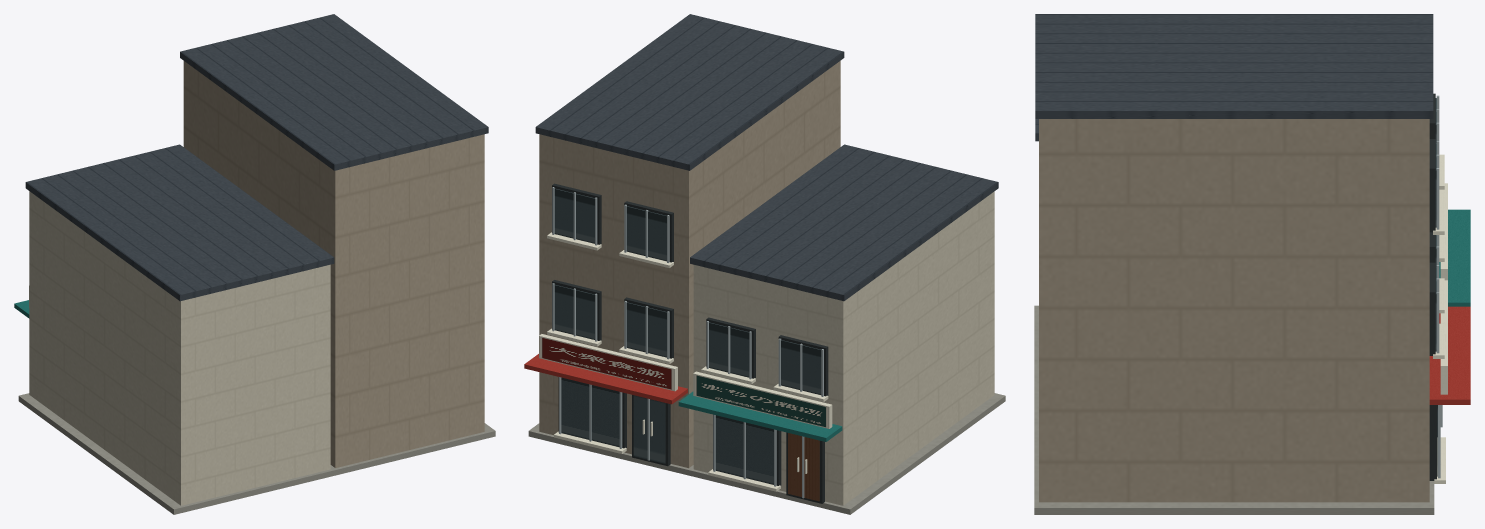
Rendered from shop_009.obj.
3 views of the same model, side by side, from view 1: azimuth 30°, elevation 25°; view 2: azimuth 150°, elevation 25°; view 3: azimuth 270°, elevation 25° (orthographic). The views are drawn at different scales.
Visible parts, largest first — view 1: shop_009; view 2: shop_009; view 3: shop_009.
Boxes of the visible parts, box(x1,y1,x2,y2) form: shop_009: box(14, 14, 495, 514); shop_009: box(524, 14, 1005, 514); shop_009: box(1034, 14, 1470, 514).
Bounding box in the file's own units: 9.8 × 9.04 × 8.94.
1 material, 1 textured.
